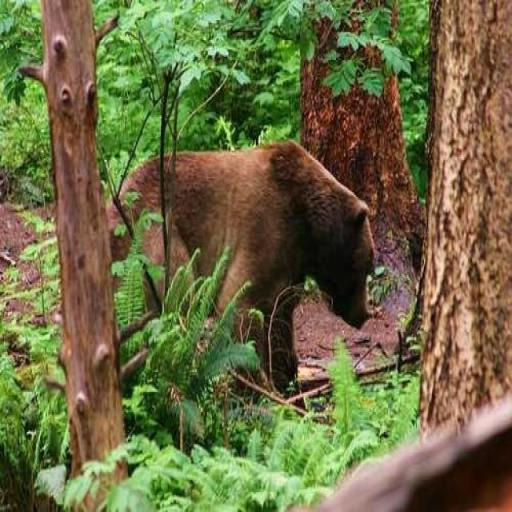Bear: (104, 138, 376, 398)
